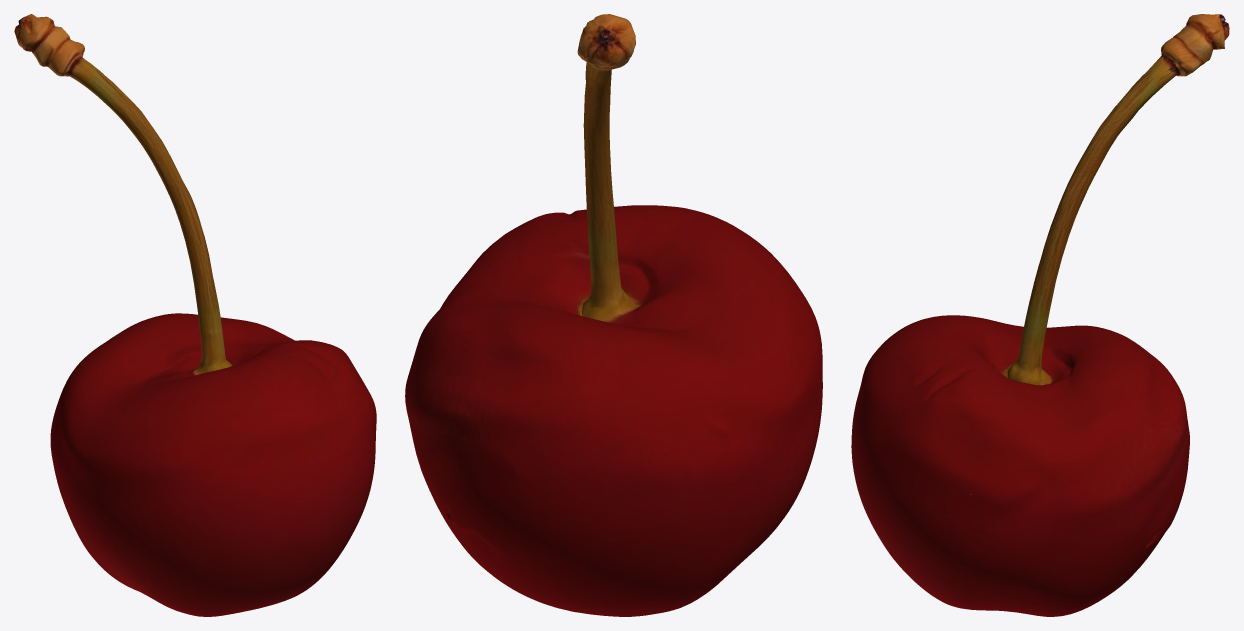
Rendered from cherry.glb.
3 views of the same model, side by side, from view 1: azimuth 30°, elevation 25°; view 2: azimuth 150°, elevation 25°; view 3: azimuth 270°, elevation 25° (orthographic). The views are drawn at different scales.
Visible parts, largest first — view 1: tripo_node_38cb2553-2bb9-48c0-b200-ed35c015e1a0; view 2: tripo_node_38cb2553-2bb9-48c0-b200-ed35c015e1a0; view 3: tripo_node_38cb2553-2bb9-48c0-b200-ed35c015e1a0.
Boxes of the visible parts, left/top/right/bottom form: tripo_node_38cb2553-2bb9-48c0-b200-ed35c015e1a0: left=14, top=14, right=376, bottom=616; tripo_node_38cb2553-2bb9-48c0-b200-ed35c015e1a0: left=405, top=14, right=822, bottom=616; tripo_node_38cb2553-2bb9-48c0-b200-ed35c015e1a0: left=851, top=14, right=1229, bottom=616.
Size of the model in its own units: 0.534 by 0.9791 by 0.6258.
1 material, 1 textured.
